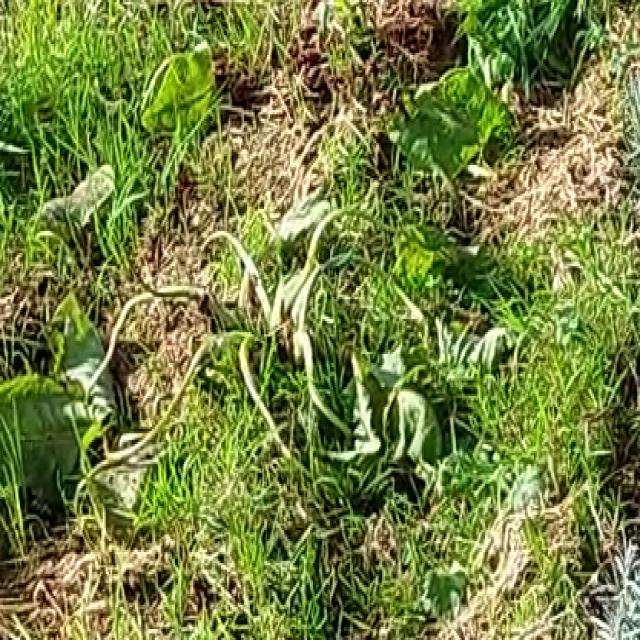organic waste: (0, 38, 540, 502)
